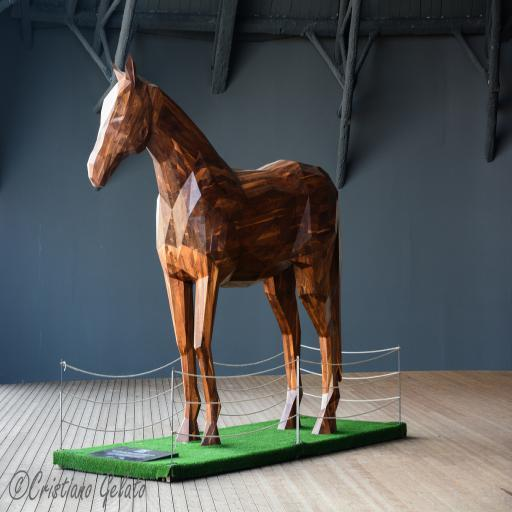Horse: (86, 54, 344, 446)
